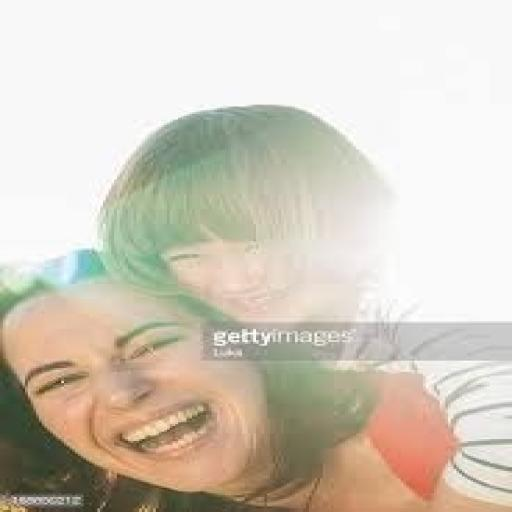hugging: (0, 101, 509, 510)
